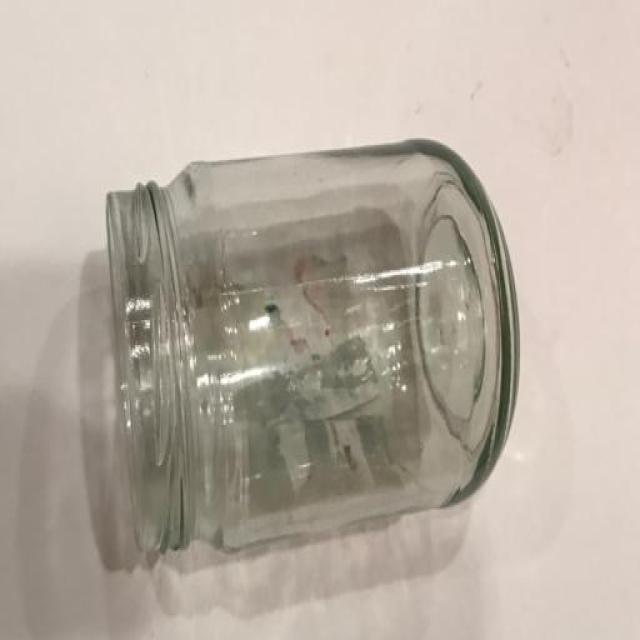glass: (108, 142, 512, 553)
